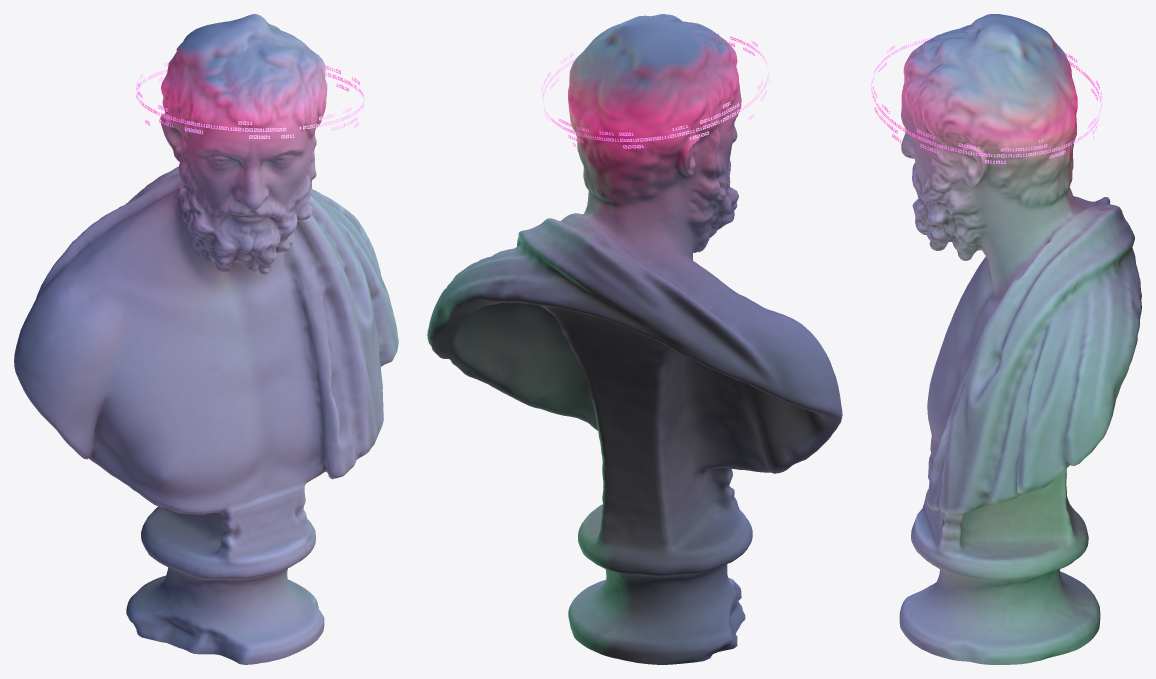
Rendered from rhetorician3.gltf.
The picture shows the model from 3 angles, left to right: view 1: azimuth 30°, elevation 25°; view 2: azimuth 150°, elevation 25°; view 3: azimuth 270°, elevation 25°; orthographic projection.
Parts seen in each view (by area): view 1: mentor roman retopo, nimbus.001, nimbus.002; view 2: mentor roman retopo, nimbus.001, nimbus.002; view 3: mentor roman retopo, nimbus.001, nimbus.002.
Part boxes in pixels (x1,y1,x2,y2): mentor roman retopo: [14, 14, 398, 664]; nimbus.001: [136, 69, 364, 131]; nimbus.002: [136, 62, 364, 138]; mentor roman retopo: [427, 14, 842, 664]; nimbus.001: [542, 33, 768, 141]; nimbus.002: [541, 40, 769, 148]; mentor roman retopo: [899, 14, 1141, 664]; nimbus.001: [871, 37, 1101, 157]; nimbus.002: [871, 45, 1102, 163].
Bounding box in the file's own units: 3.59 × 5.42 × 2.19.
Materials: 2 (1 with a texture image).
